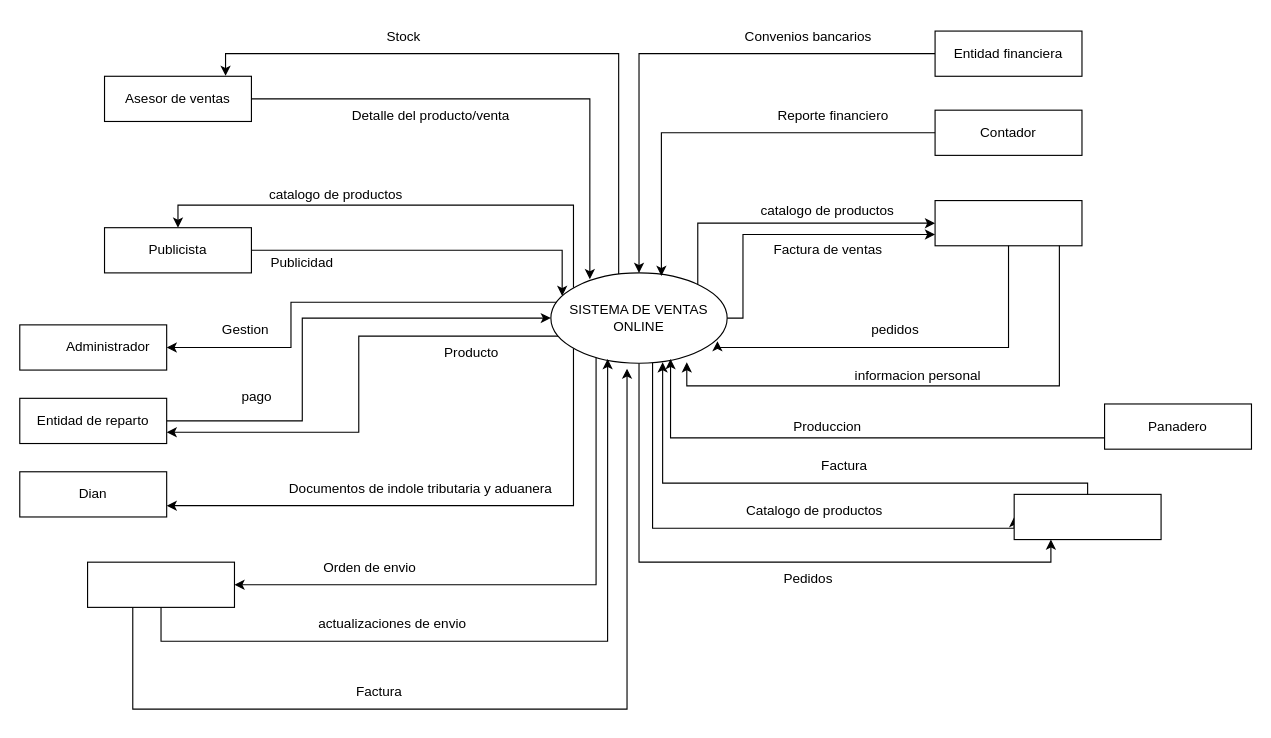
The diagram is 1271 pixels wide and 738 high, and some of its shapes have lost their labels. Each missing label, with the centre of its shape:
"Clientes" goes at (x=1008, y=222).
"Entidad de transporte" goes at (x=160, y=584).
"Proveedores" goes at (x=1087, y=516).
